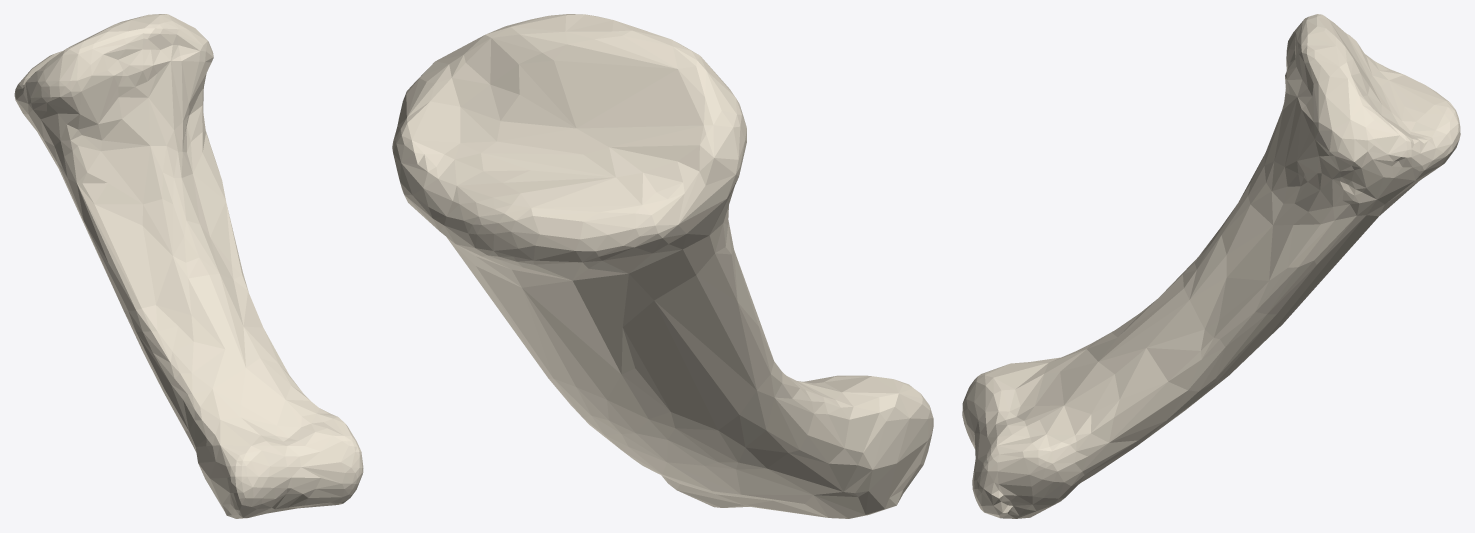
The model's file is left_ring_middle_phalanx.glb.
3 renders of one model, left to right at view 1: azimuth 30°, elevation 25°; view 2: azimuth 150°, elevation 25°; view 3: azimuth 270°, elevation 25°, orthographic. The views are drawn at different scales.
Visible parts, largest first — view 1: left_ring_middle_phalanx; view 2: left_ring_middle_phalanx; view 3: left_ring_middle_phalanx.
Boxes of the visible parts, x1,y1,x2,y2 form: left_ring_middle_phalanx: [14, 14, 363, 518]; left_ring_middle_phalanx: [392, 14, 933, 518]; left_ring_middle_phalanx: [962, 14, 1460, 518].
Bounding box in the file's own units: 0.0121 × 0.0241 × 0.0243.
